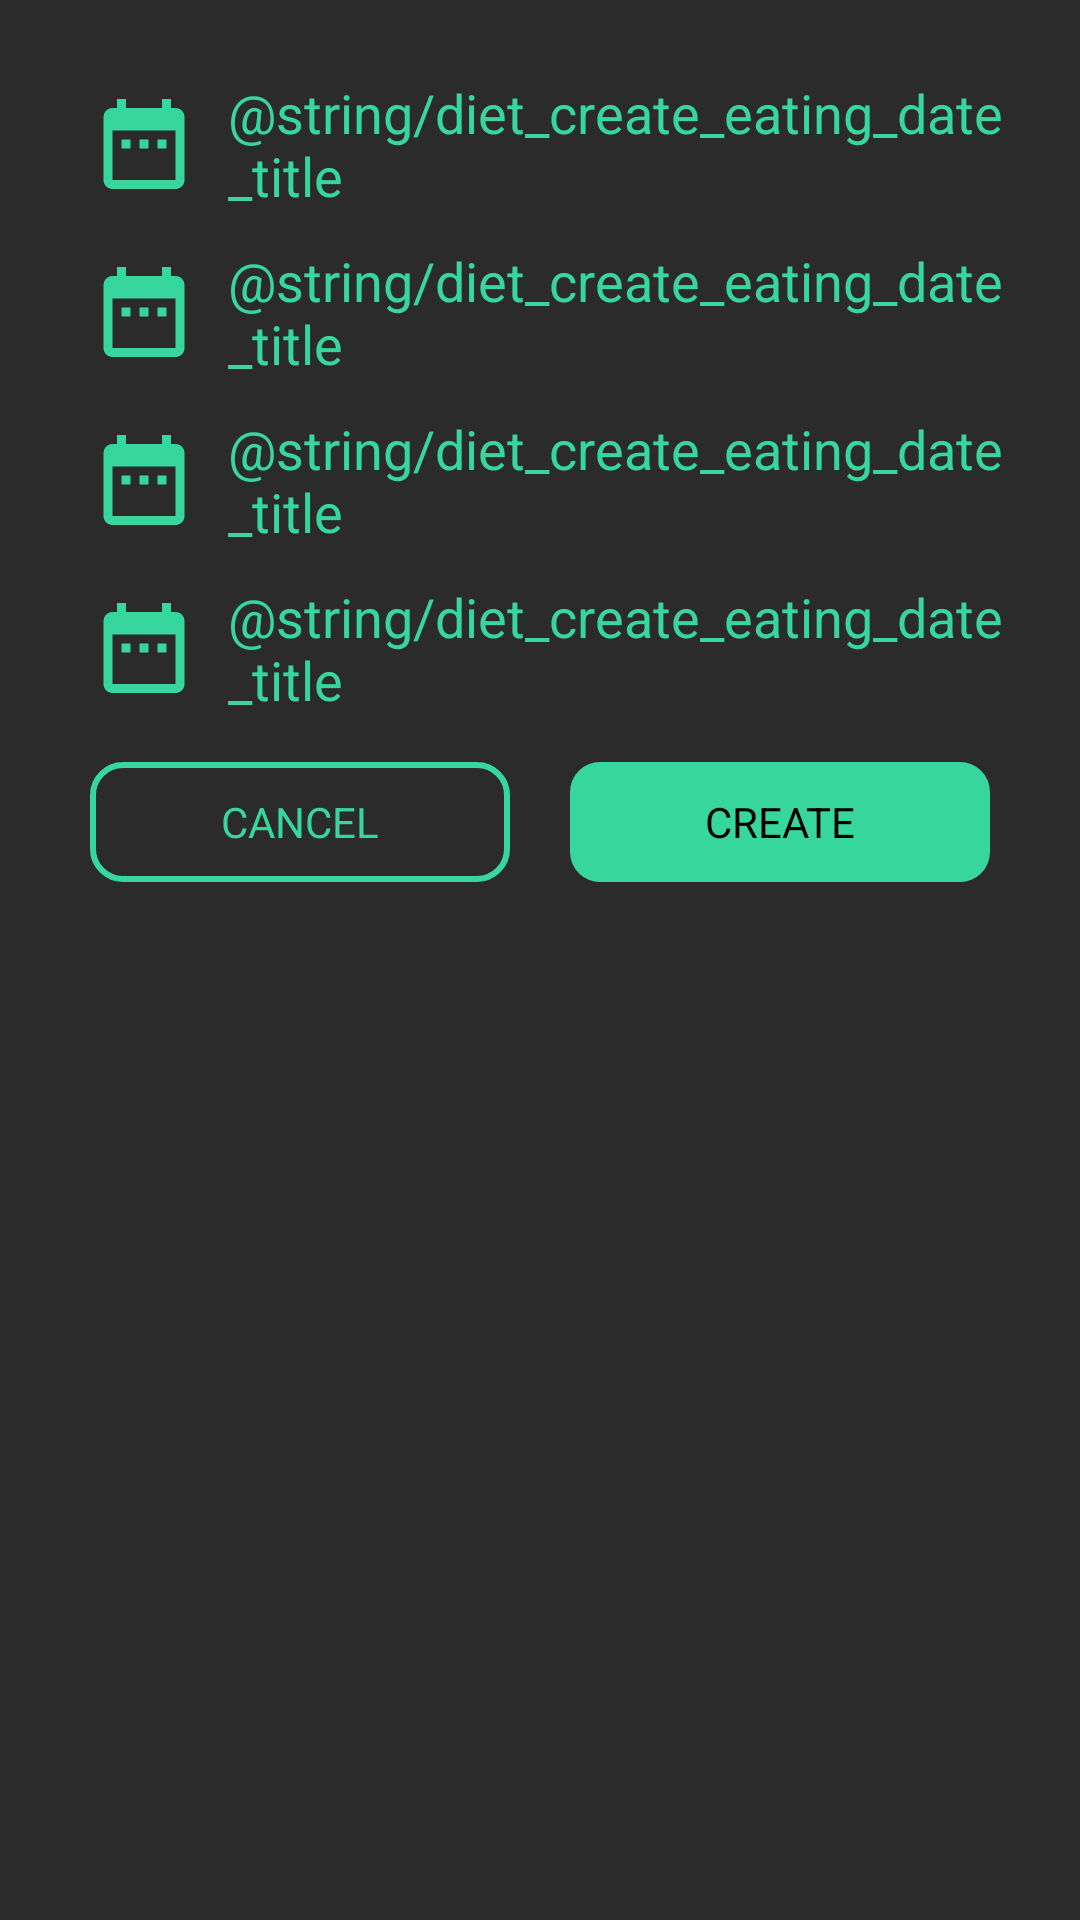

Icon click points for this 1080 × 1920 phone screenshot, format [x,y]:
date range: [144,144], [144,312], [144,480], [144,648]
